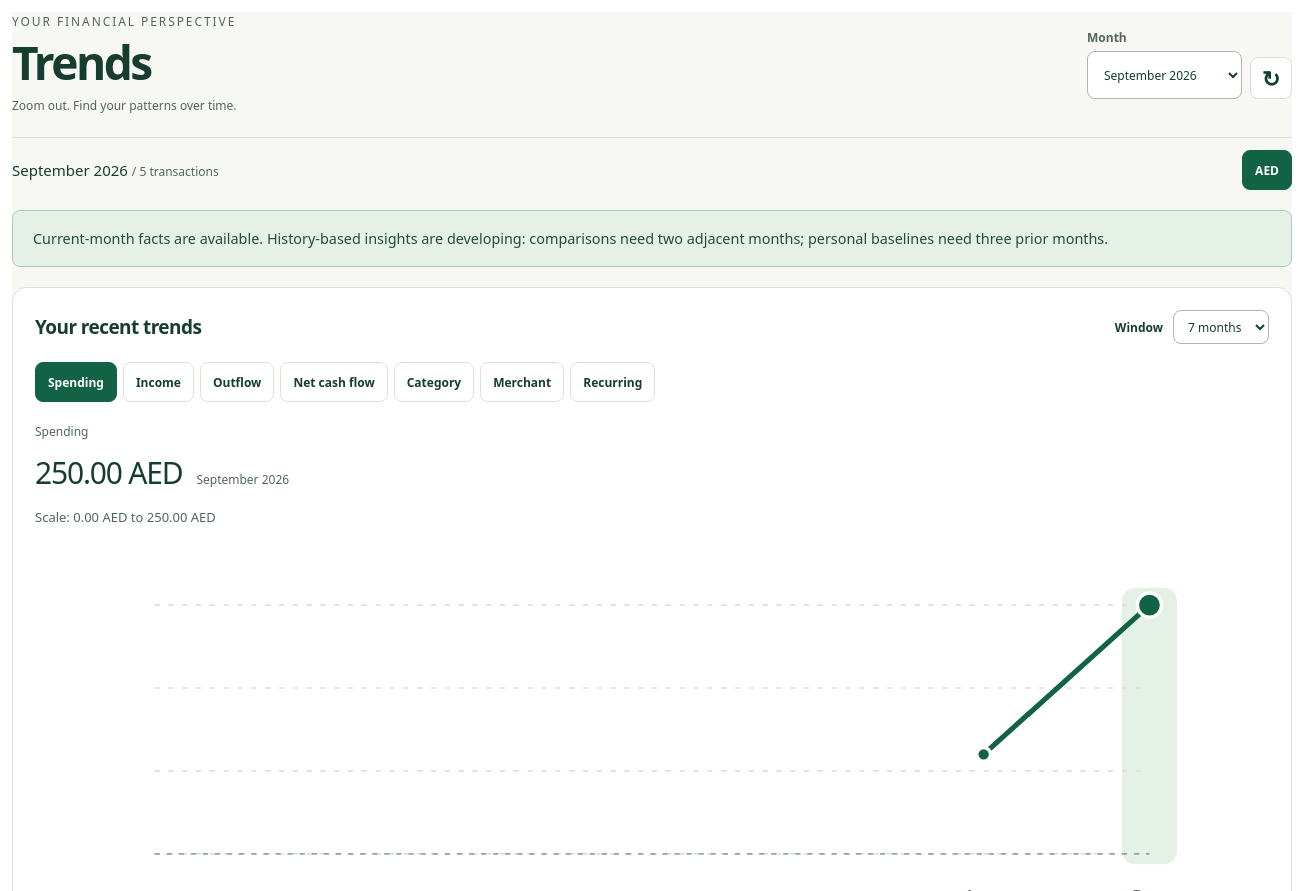
Test: reports historical fetch failures and retries instead of plotting partial totals
Expected: the heading "Your recent trends" is shown, [35,315,201,340]
Click the button "Recurring": [613, 382] box [570,362,655,402]
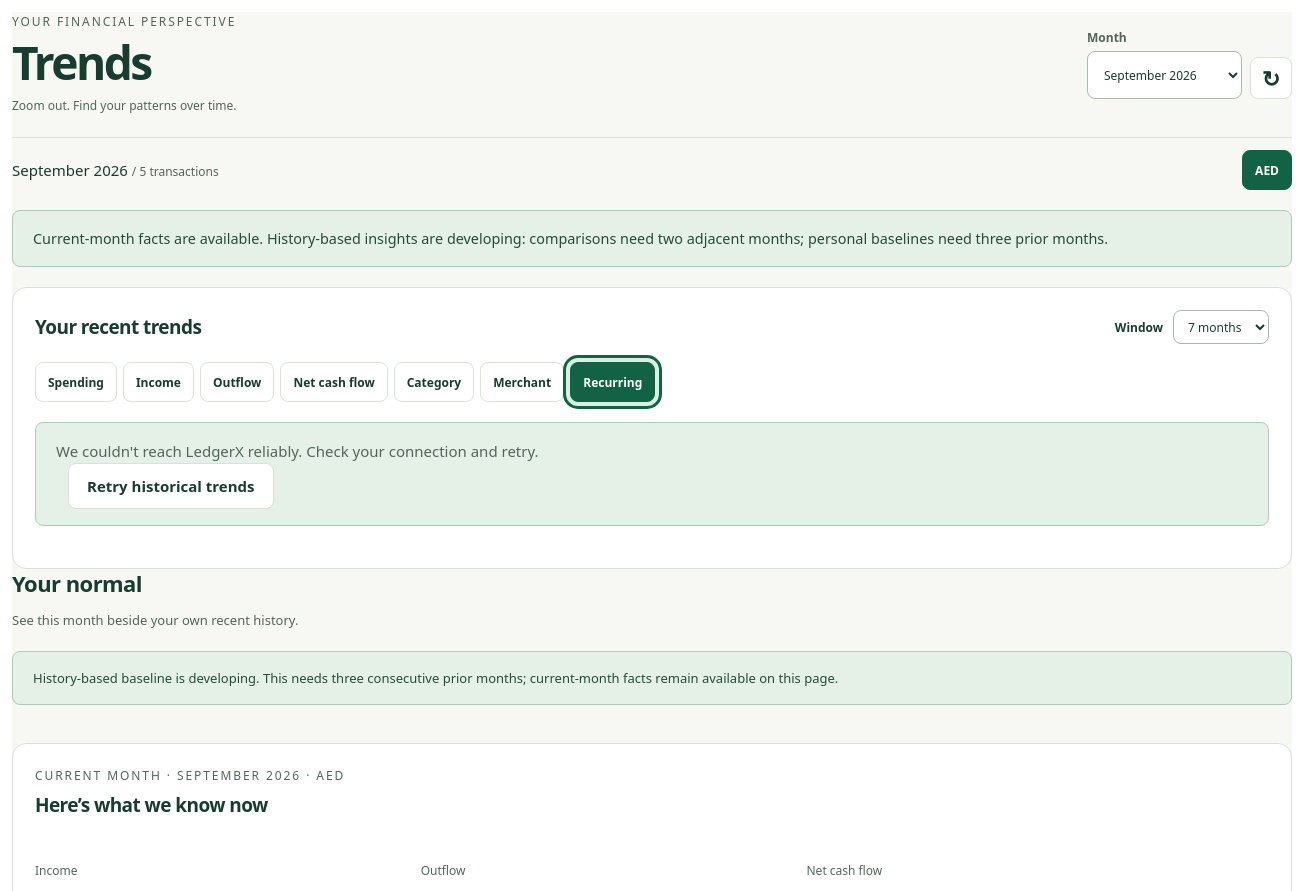
Expected: the message "We couldn't reach LedgerX reliably. Check your connection and retry." is shown, [56,441,539,461]
Expected: the button "Retry historical trends" is shown, [68,463,274,509]
